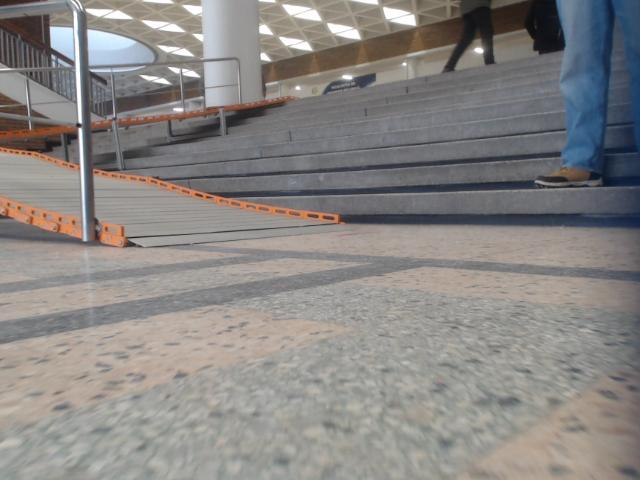rampUp: (94, 170, 338, 247), (0, 150, 81, 236)
ramps-railing: (0, 0, 91, 245)
